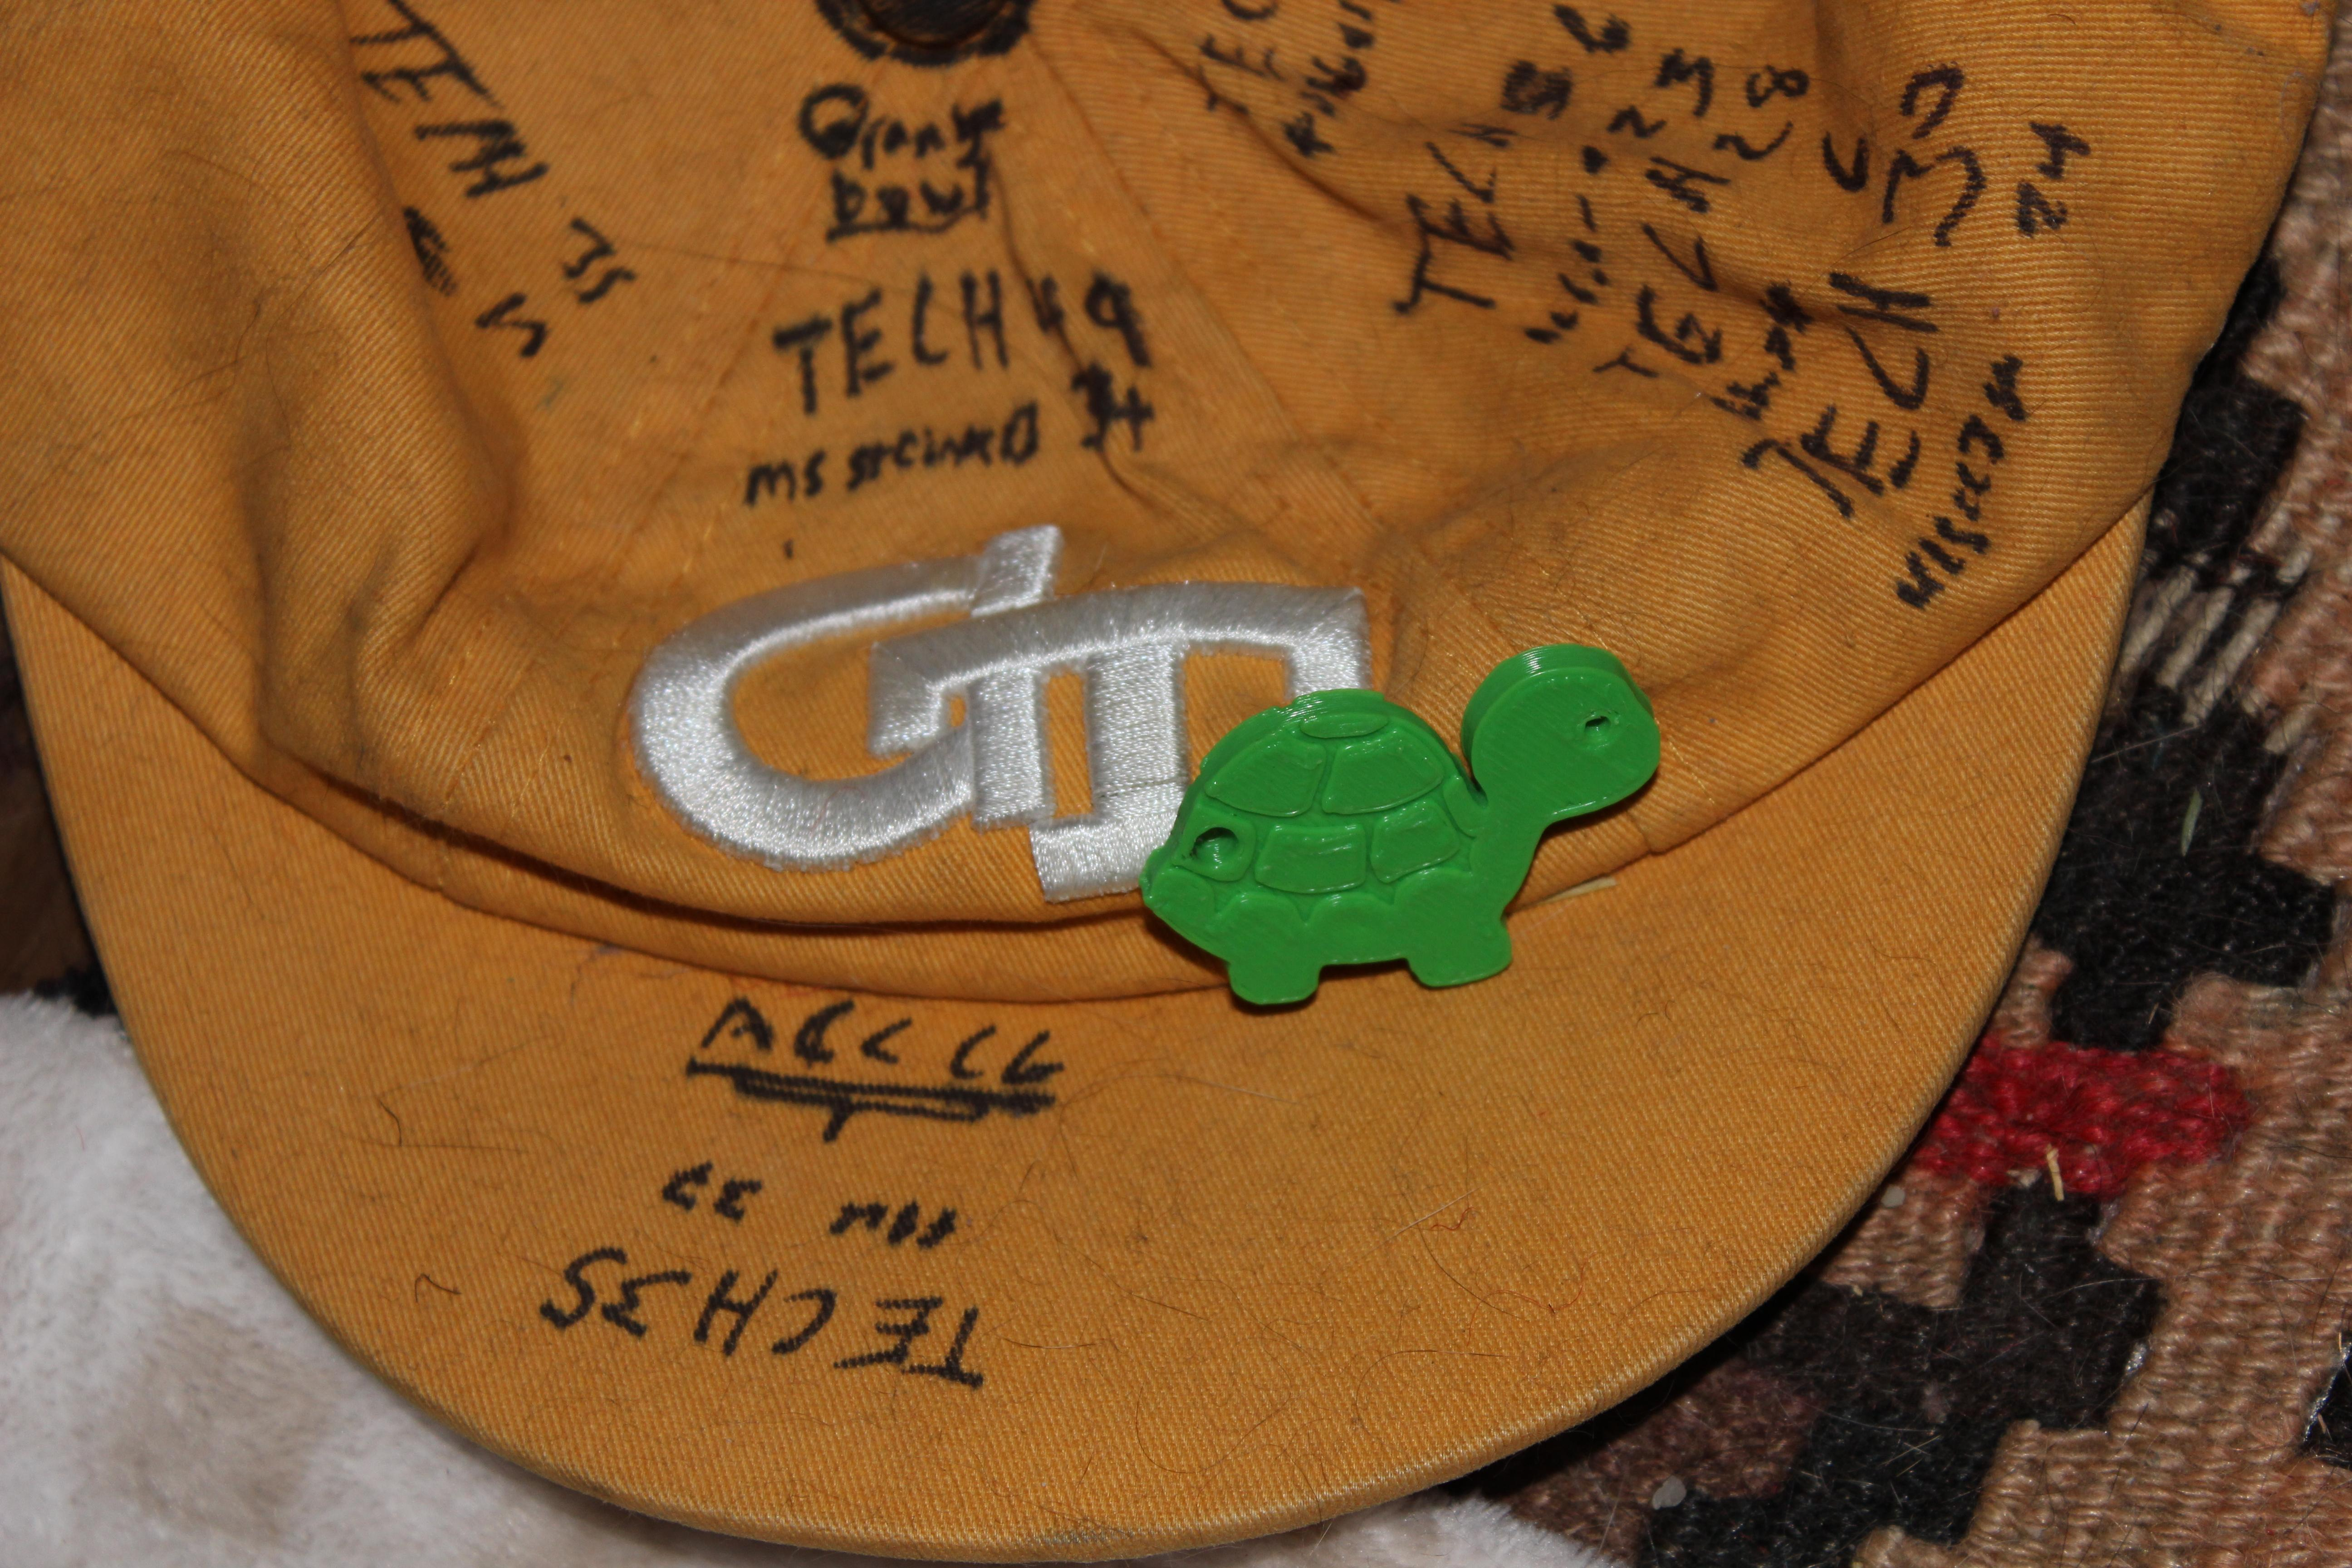turtle: (1108, 597, 1696, 1040)
